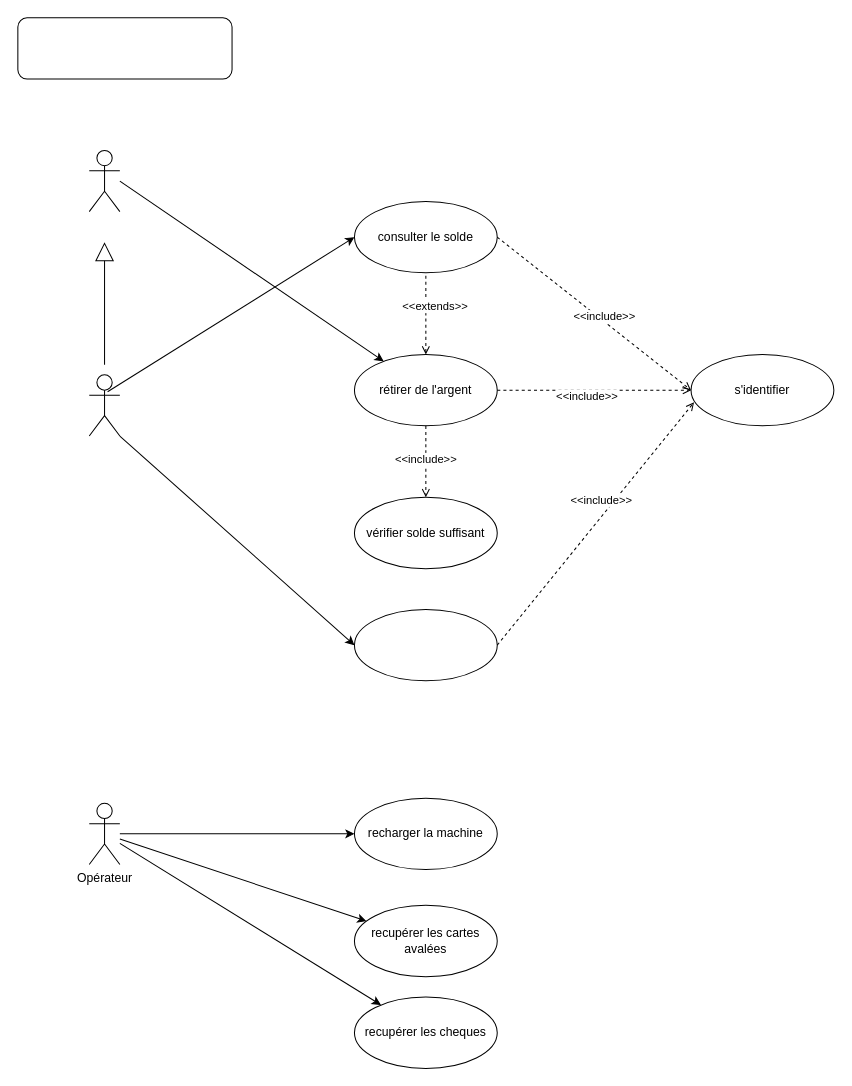
Image size: 852x1086. Some labels were removed from this diagram. The centre of each missing label's shape, as x and y in pixels:
"Client de base" belongs at [104,180].
"Client de la banque" belongs at [104,405].
"deposer de l'argent" belongs at [425,644].
"exo 3 consultation, retrait, depot d'argent" belongs at [124,48].
